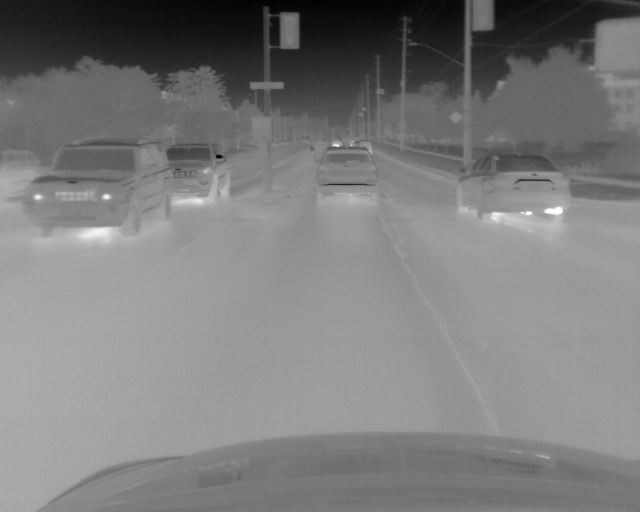car: (27, 135, 177, 240), (456, 151, 568, 224), (314, 147, 380, 204), (167, 142, 227, 204), (1, 145, 41, 203)
